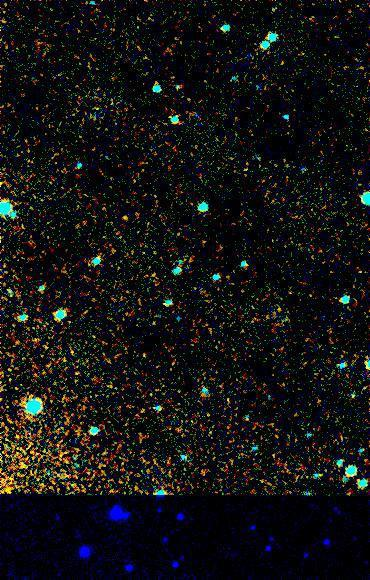star: (108, 204, 138, 234)
